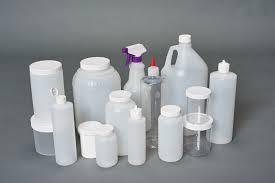Container for household chemicals: (20, 34, 243, 168)
